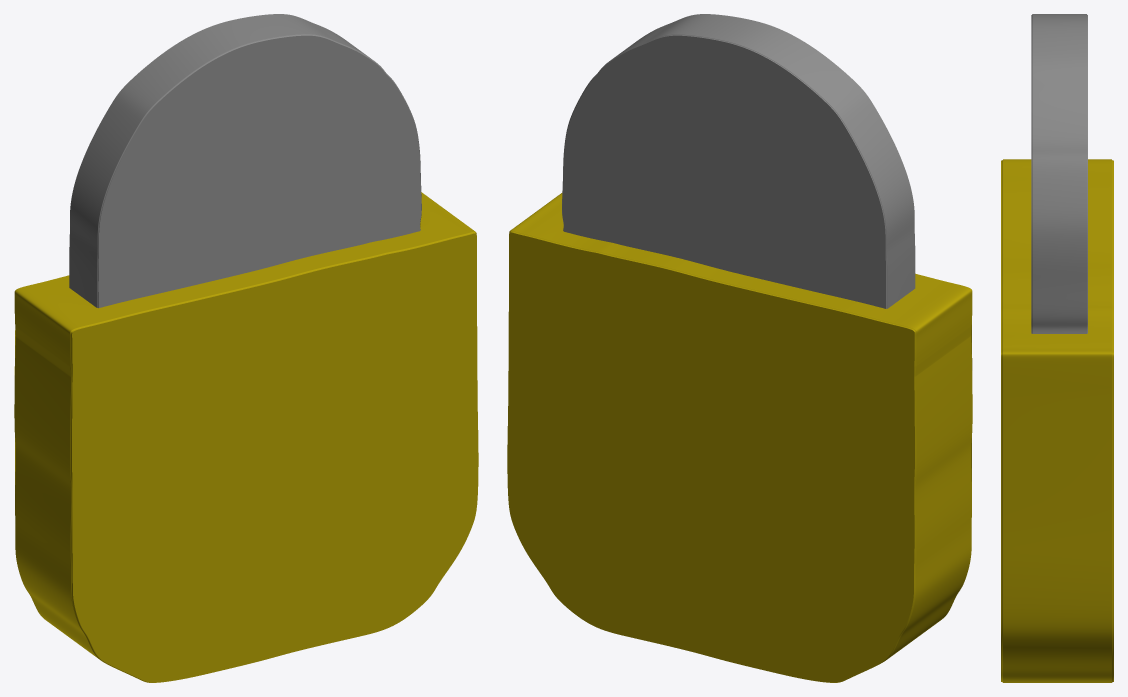
File: padlock.fbx
3 renders of one model, left to right at view 1: azimuth 30°, elevation 25°; view 2: azimuth 150°, elevation 25°; view 3: azimuth 270°, elevation 25°, orthographic.
Visible parts, largest first — view 1: bevelPolygon3; view 2: bevelPolygon3; view 3: bevelPolygon3.
Boxes of the visible parts, x1,y1,x2,y2 form: bevelPolygon3: (14, 14, 478, 682); bevelPolygon3: (507, 14, 972, 682); bevelPolygon3: (1001, 14, 1113, 682).
Size of the model in its own units: 8.54 by 12.12 by 2.08.
